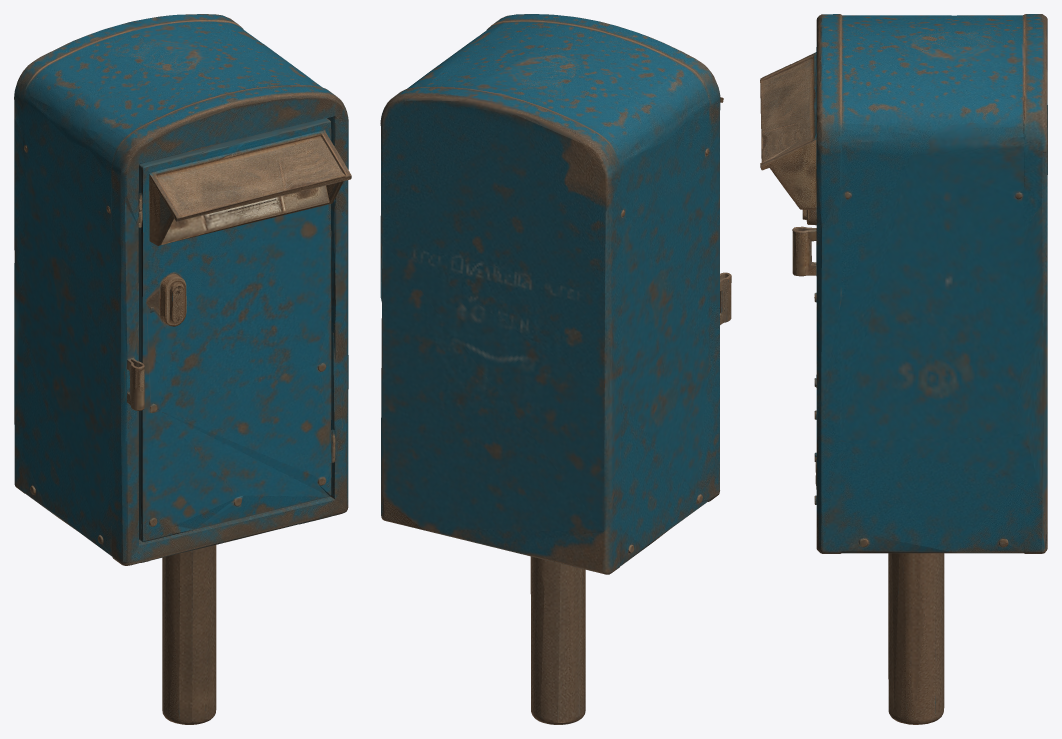
3 renders of one model, left to right at view 1: azimuth 30°, elevation 25°; view 2: azimuth 150°, elevation 25°; view 3: azimuth 270°, elevation 25°, orthographic. The views are drawn at different scales.
Bounding box in the file's own units: 0.7076 × 1.9 × 0.7414.
1 material, 1 textured.
